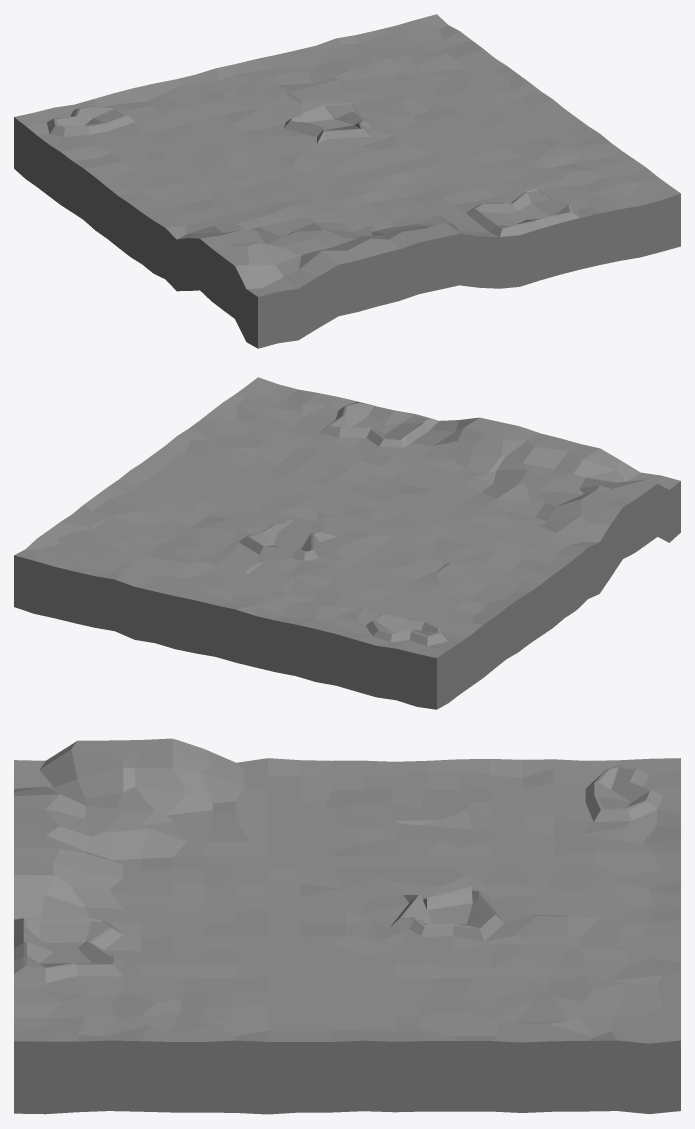
Rendered from Terrain-05.fbx.
The picture shows the model from 3 angles, top to bottom: view 1: azimuth 30°, elevation 25°; view 2: azimuth 150°, elevation 25°; view 3: azimuth 270°, elevation 25°; orthographic projection. The views are drawn at different scales.
Parts seen in each view (by area): view 1: Terrain-05; view 2: Terrain-05; view 3: Terrain-05.
Part boxes in pixels (box(x1,y1,x2,y2)): Terrain-05: box(14, 14, 680, 348); Terrain-05: box(14, 377, 680, 709); Terrain-05: box(14, 738, 680, 1114).
Size of the model in its own units: 300 by 47.31 by 300.
